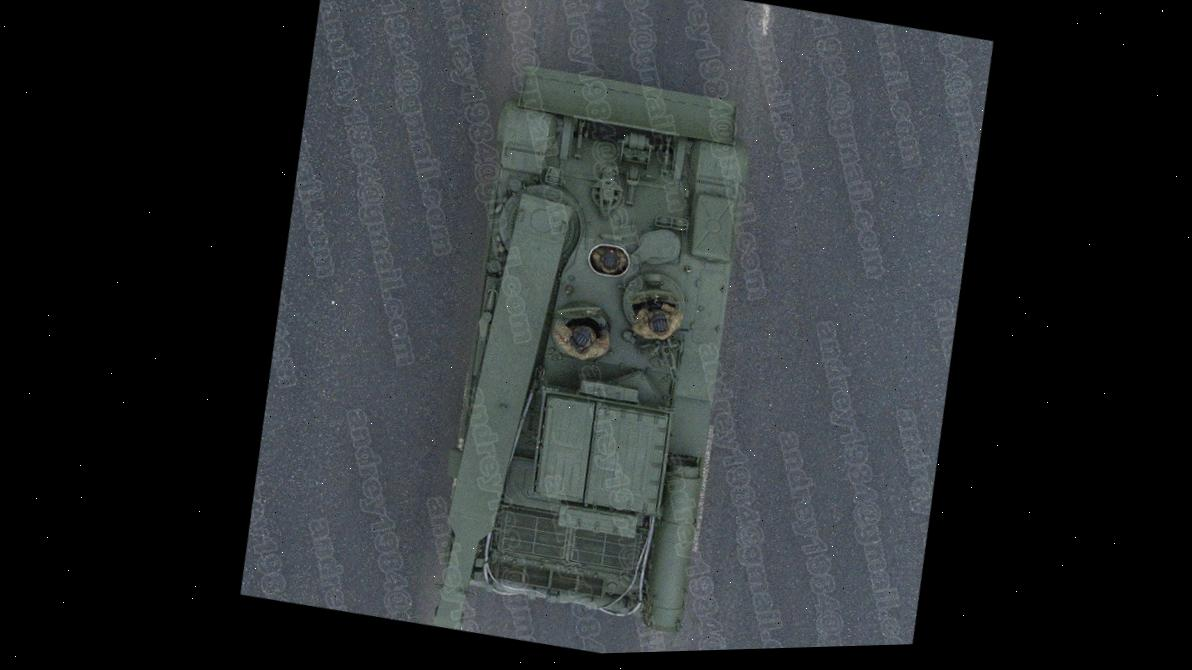armored_car: (393, 46, 792, 658)
